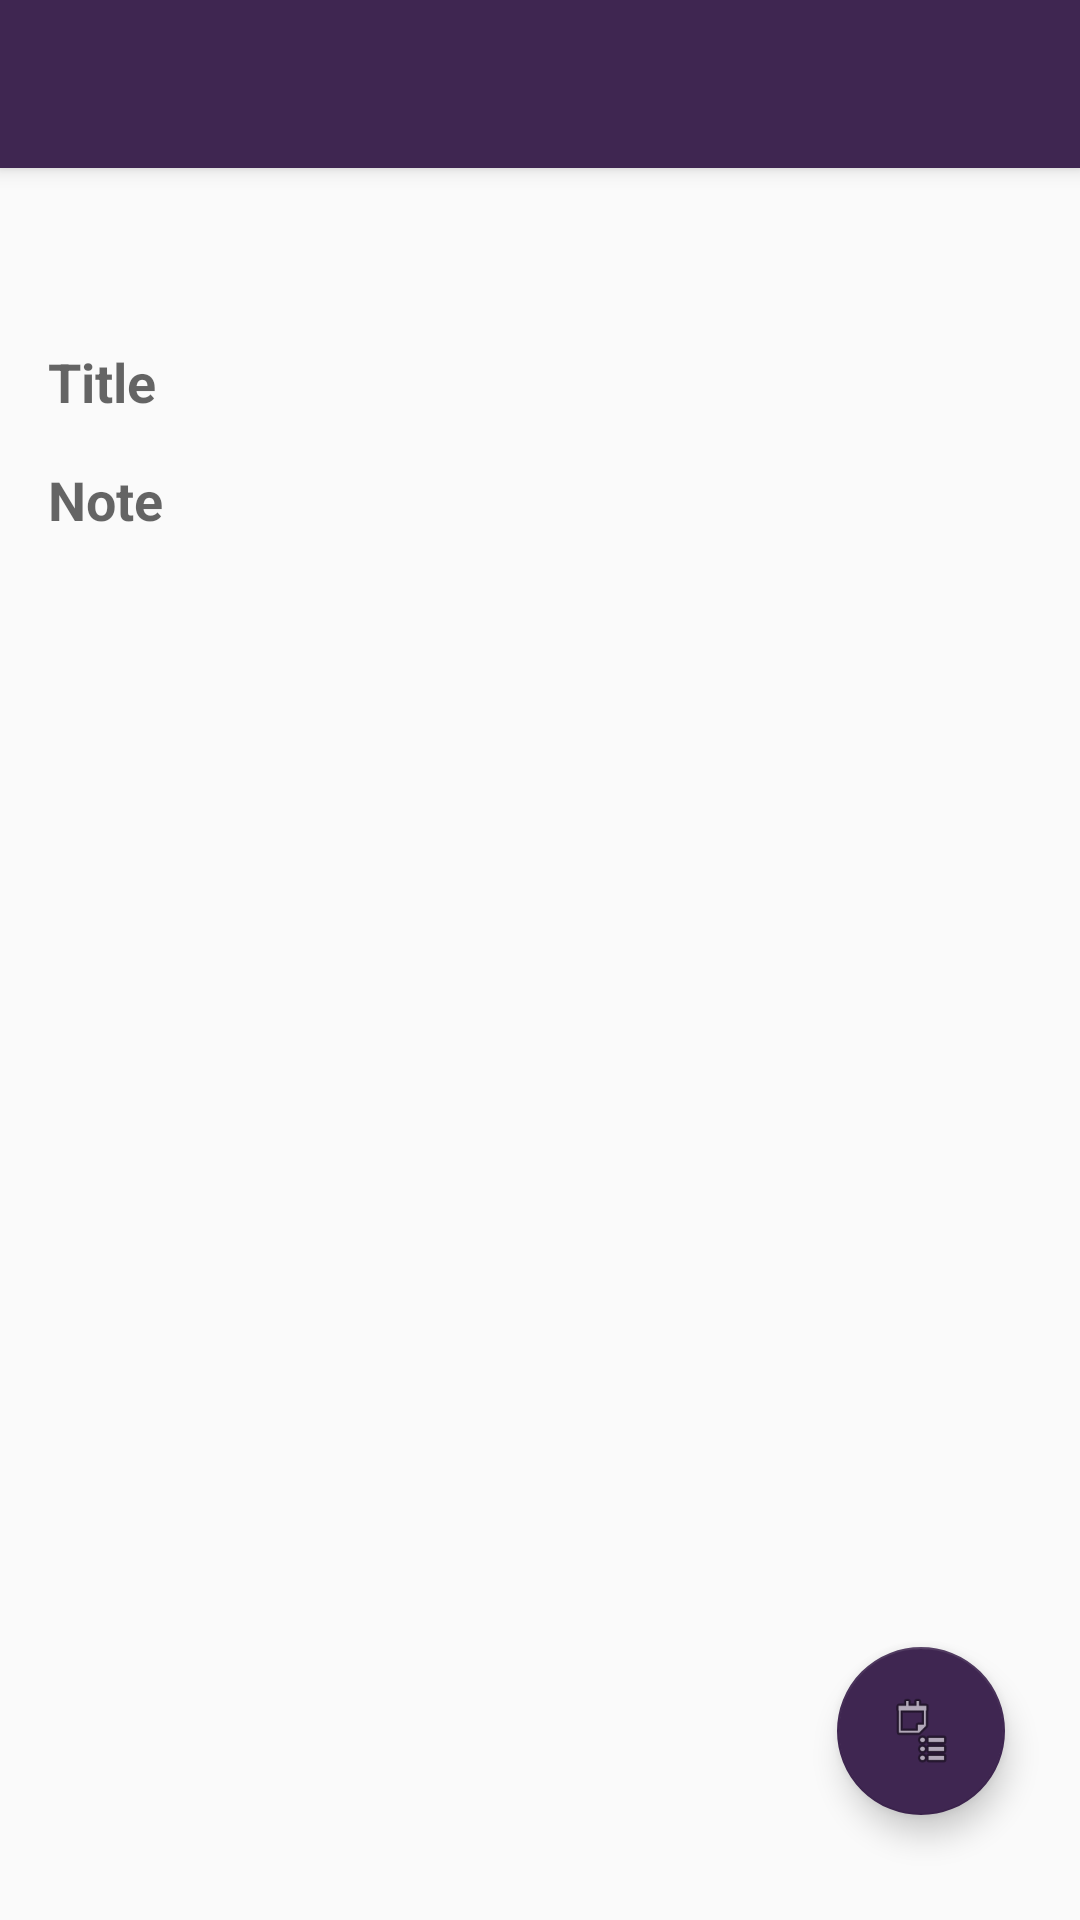

Icon bounding boxes for this 1080px×1920px phone screenshot, format {"left": x1, "top": y1, "right": x2, "bottom": y2}:
agenda: {"left": 837, "top": 1647, "right": 1005, "bottom": 1815}
